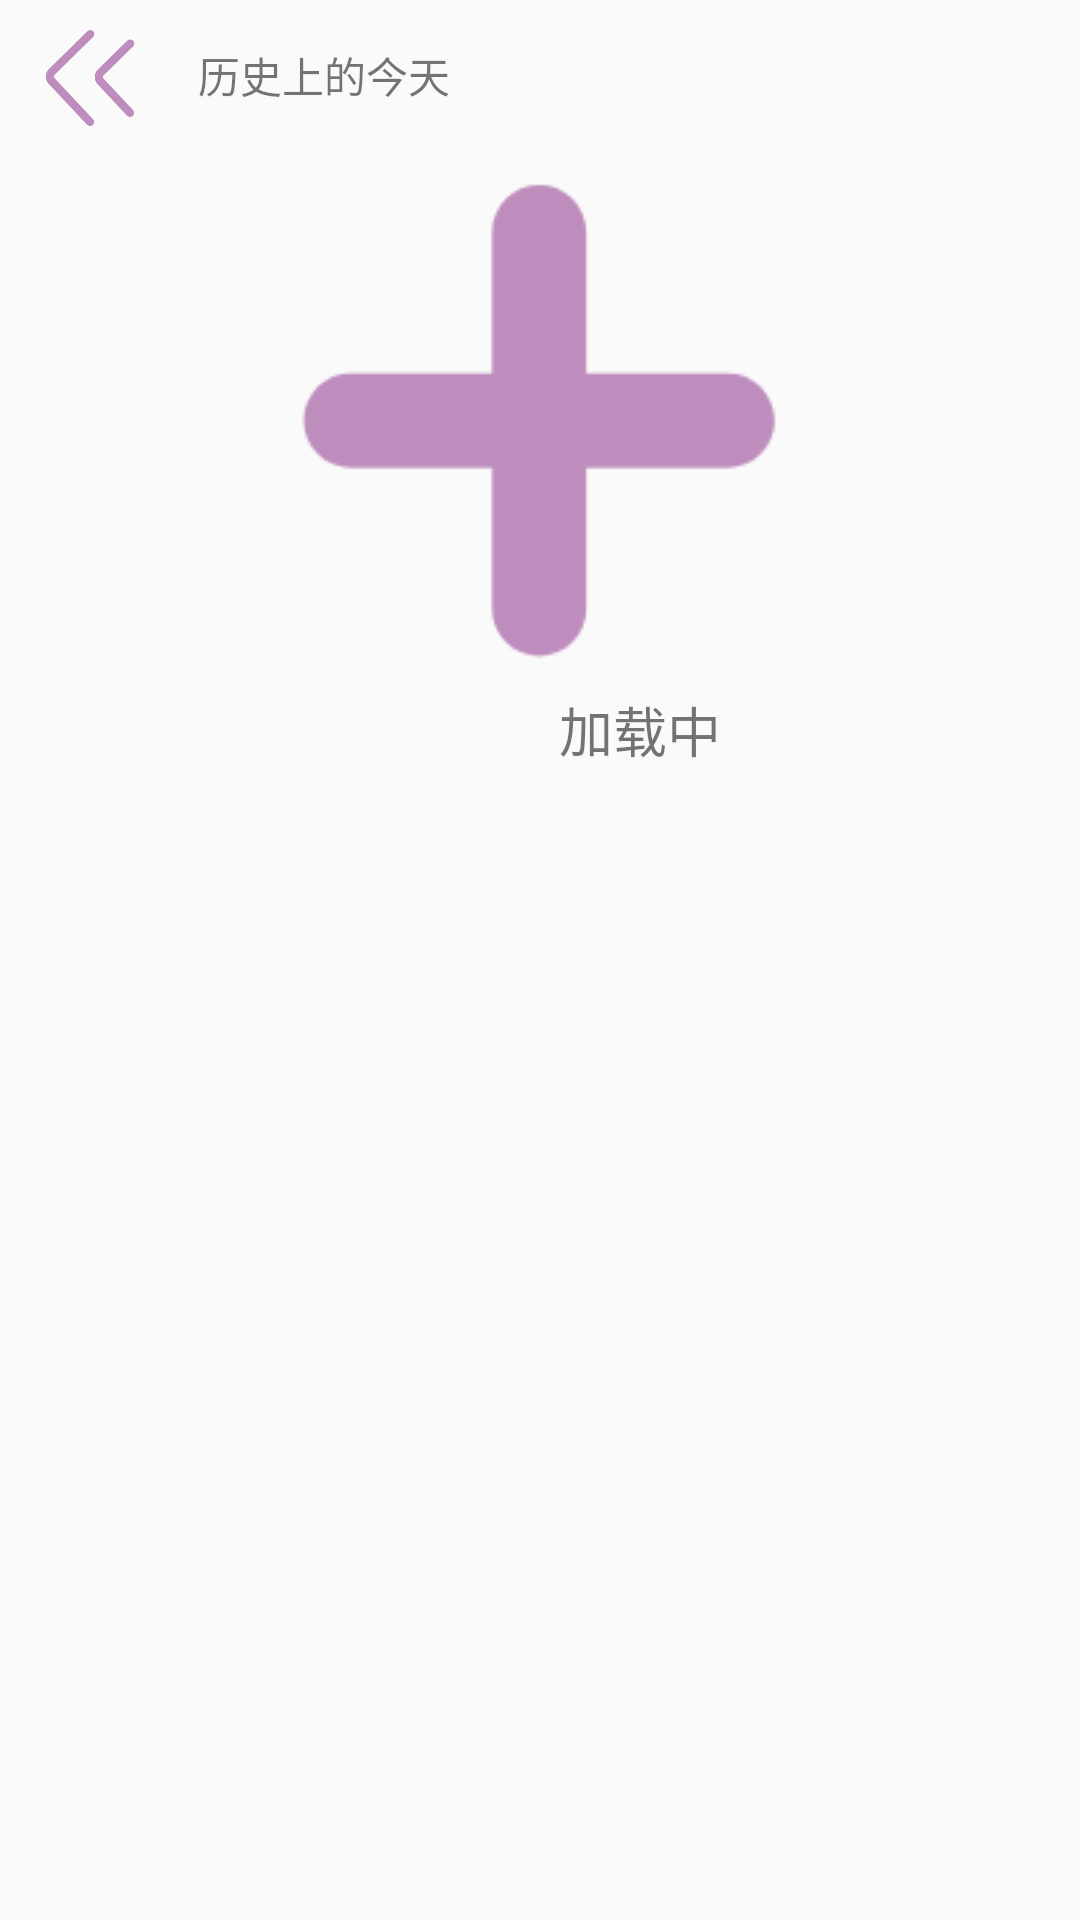

Where to tap for icons on this 1080 x 1920 app screen, as [x,y]:
back: [90,78]
